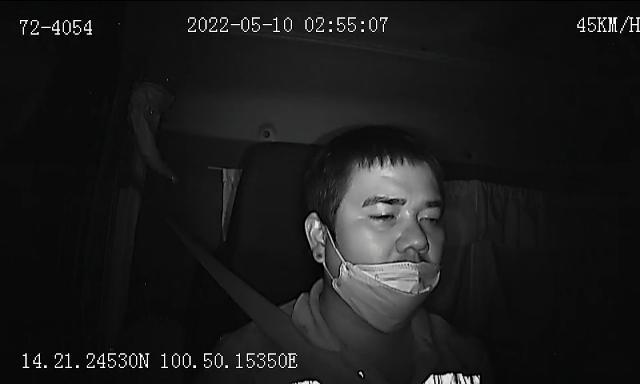SafeDriving: (362, 204, 404, 228), (414, 202, 446, 228)
Seatbelt: (200, 256, 320, 384)
